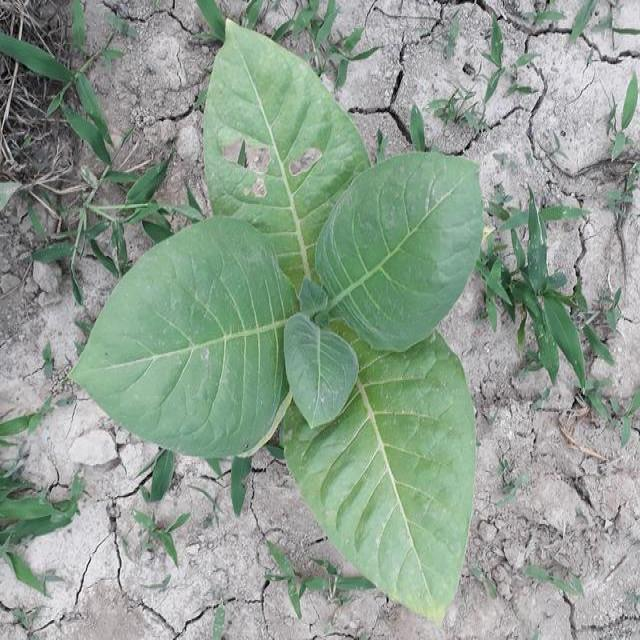crop: (56, 11, 493, 640)
